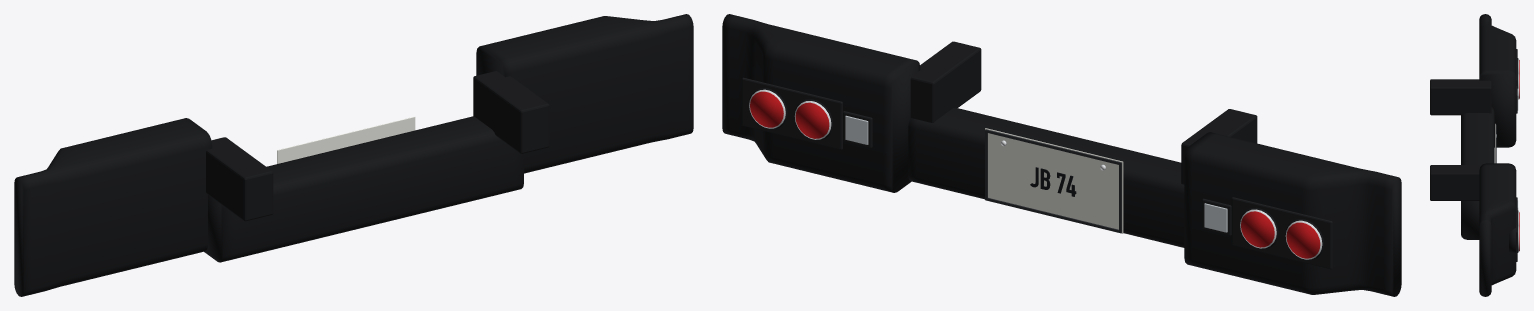
Rendered from rearBumper_jaos_rear_cowl.glb.
3 views of the same model, side by side, from view 1: azimuth 30°, elevation 25°; view 2: azimuth 150°, elevation 25°; view 3: azimuth 270°, elevation 25° (orthographic). The views are drawn at different scales.
Visible parts, largest first — view 1: pod-1.006, centre.002, pod1.006, mount1.027, mount-1.027, plate.034; view 2: pod-1.006, pod1.006, centre.002, plate.034, mount1.027, recess-1.002, recess1.002, mount-1.027, lampLens-1o, lampLens-1i, lampLens1o, lampLens1i (+5 smaller); view 3: pod1.006, pod-1.006, centre.002, mount-1.027, mount1.027, lampCan1o, recess1.002, plateRim32_0, recess-1.002.
Boxes of the visible parts, box(x1,y1,x2,y2) form: pod-1.006: box(14, 118, 212, 296); centre.002: box(204, 116, 523, 262); pod1.006: box(476, 14, 693, 173); mount1.027: box(473, 71, 549, 153); mount-1.027: box(206, 137, 273, 221); plate.034: box(277, 116, 415, 163); pod-1.006: box(1184, 132, 1401, 296); pod1.006: box(722, 14, 920, 192); centre.002: box(908, 107, 1184, 247); plate.034: box(985, 128, 1123, 233); mount1.027: box(910, 41, 981, 122); recess-1.002: box(1231, 197, 1332, 269); recess1.002: box(742, 77, 842, 149); mount-1.027: box(1181, 109, 1257, 184); lampLens-1o: box(1286, 222, 1320, 258); lampLens-1i: box(1241, 211, 1274, 247); lampLens1o: box(750, 91, 783, 127); lampLens1i: box(795, 102, 829, 138); pod1.006: box(1479, 163, 1516, 296); pod-1.006: box(1479, 14, 1516, 147); centre.002: box(1461, 107, 1494, 239); mount-1.027: box(1430, 79, 1491, 115); mount1.027: box(1430, 165, 1481, 200); lampCan1o: box(1509, 225, 1518, 252); recess1.002: box(1516, 201, 1517, 261); plateRim32_0: box(1495, 124, 1496, 163); recess-1.002: box(1516, 49, 1517, 85).
Bounding box in the file's own units: 1.6 × 0.27 × 0.292.
